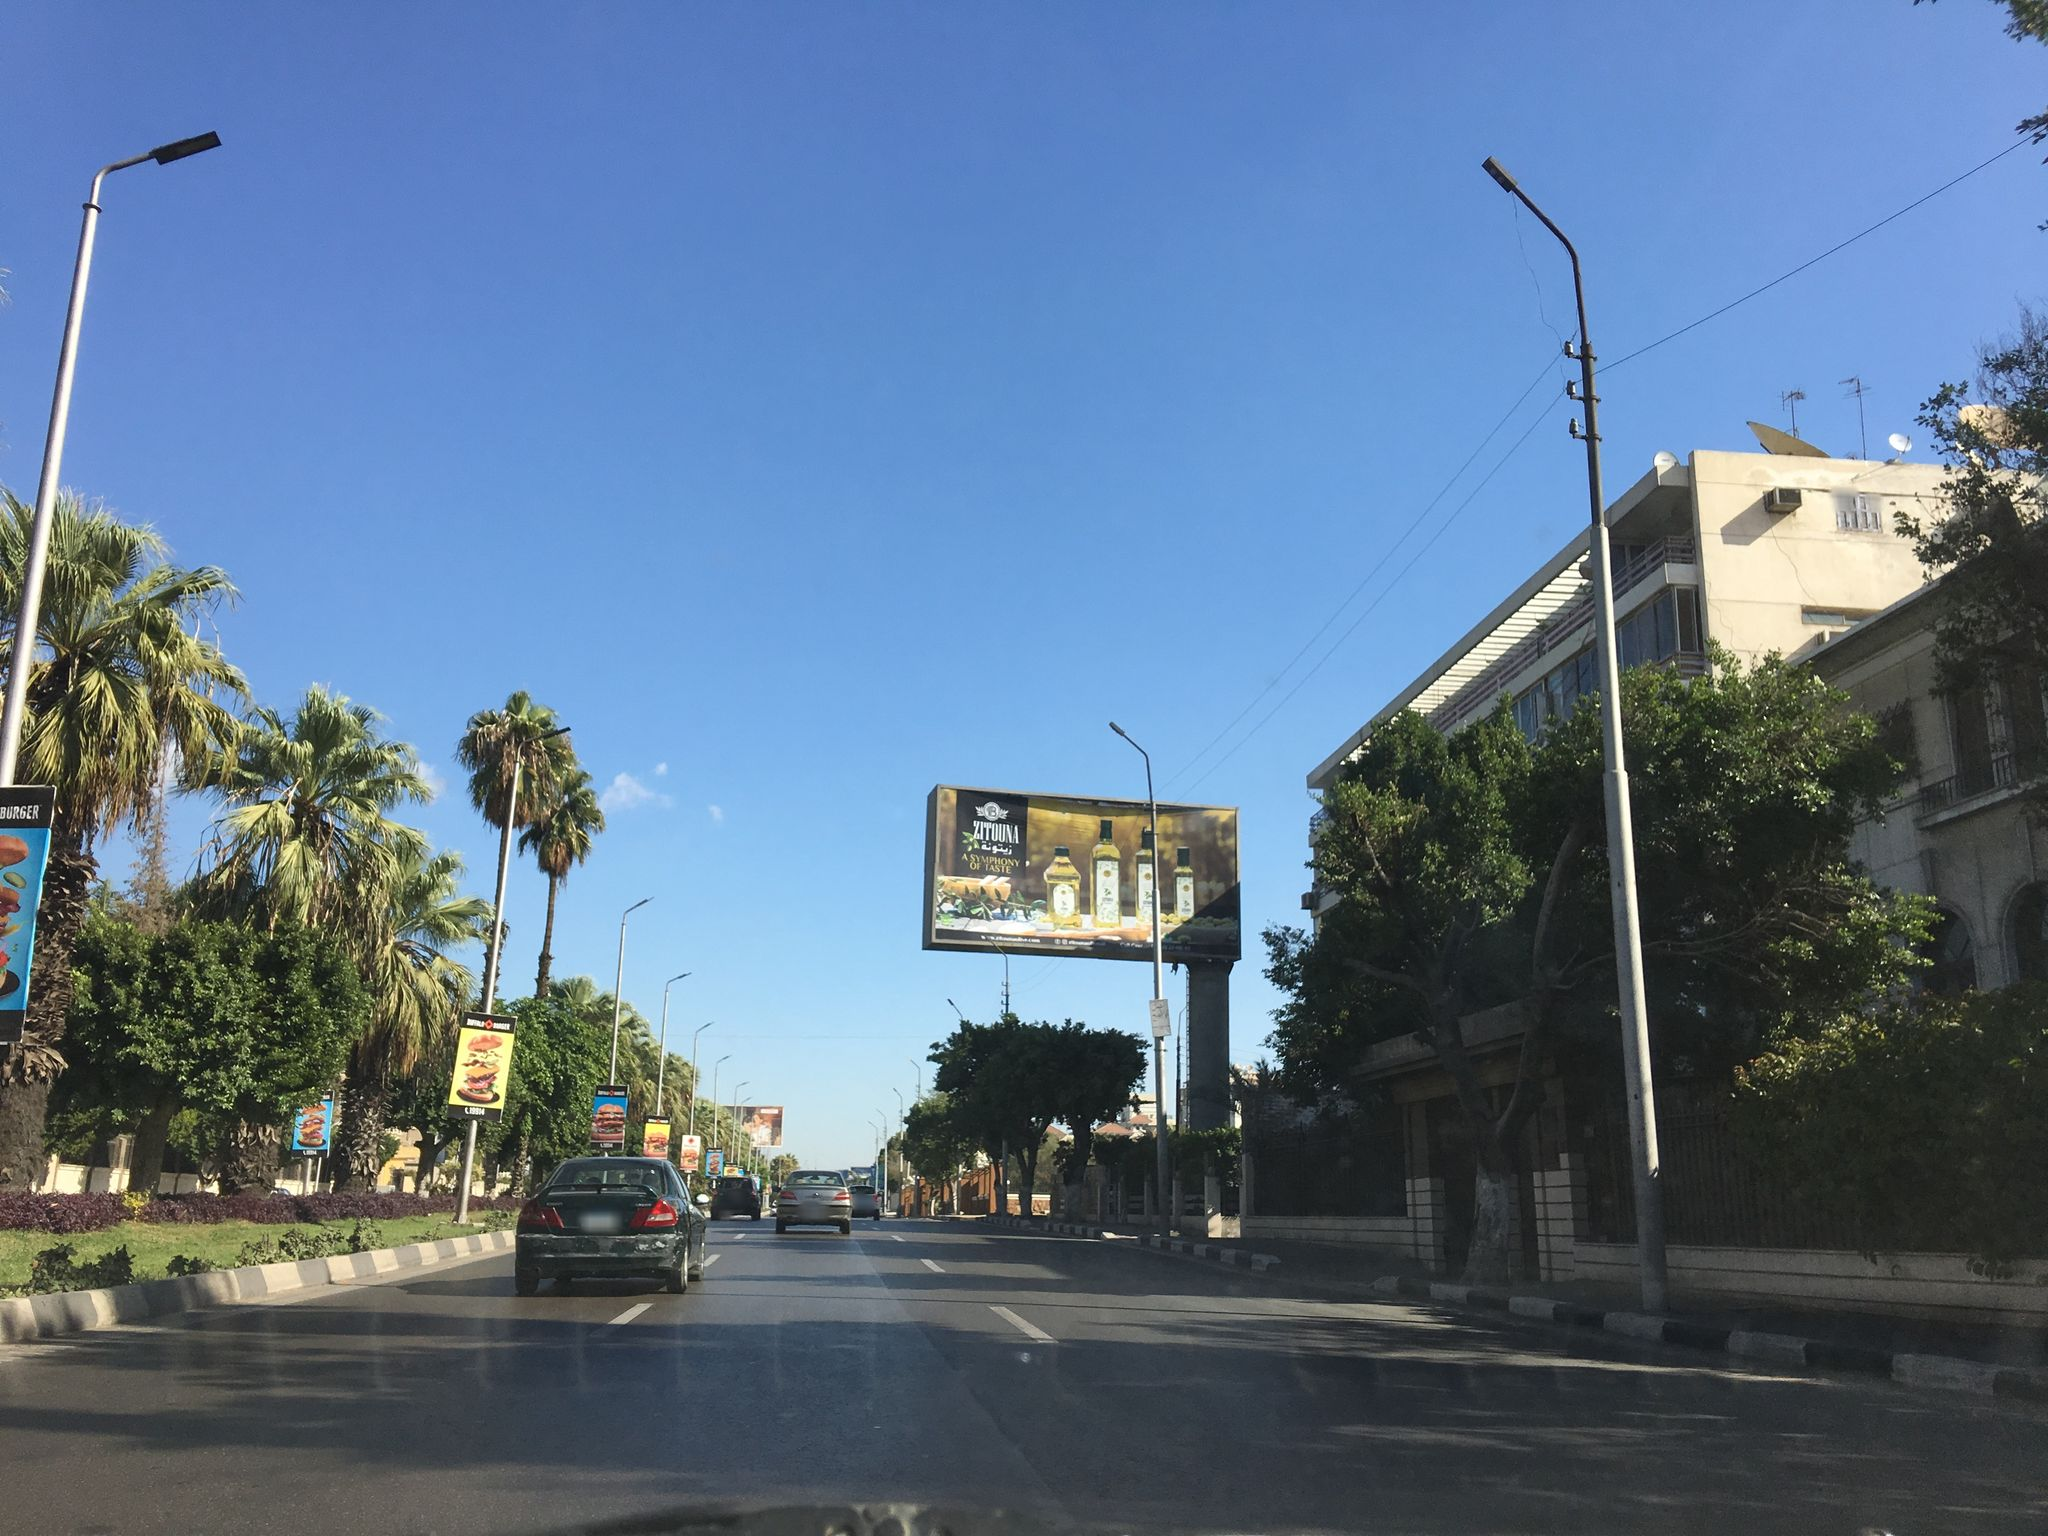car: (513, 1155, 713, 1294), (772, 1170, 856, 1234), (706, 1175, 763, 1221), (847, 1184, 880, 1220)
